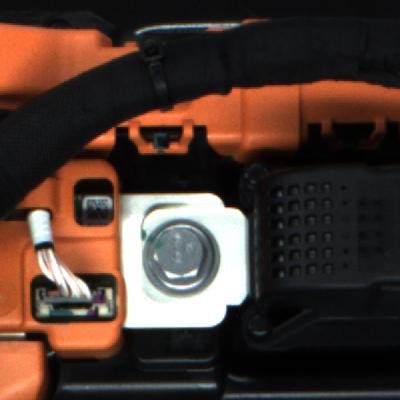nut_b: (130, 208, 231, 302)
